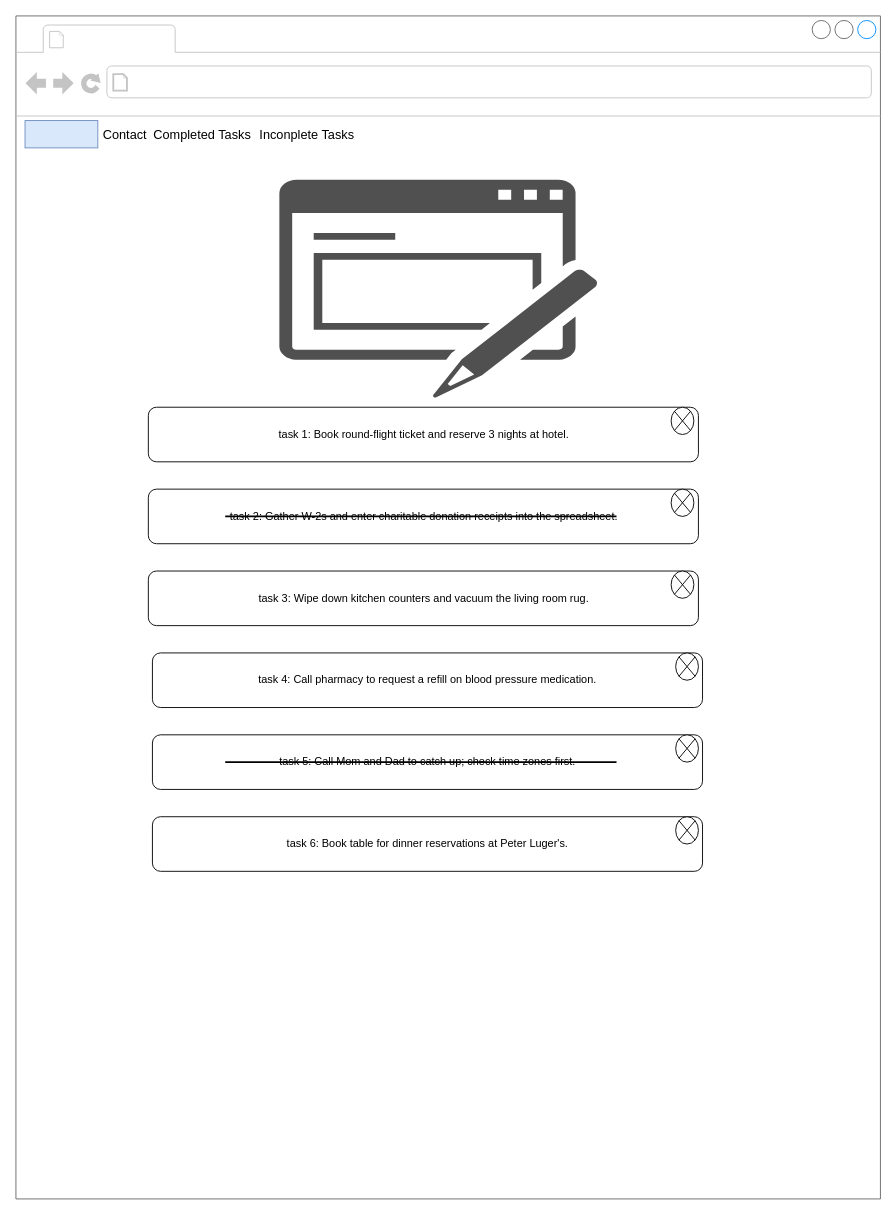
Image size: 896x1215. Some labels were removed from this diagram. The shapes that lost their labels are listed below. From the top down, each one's centre as x and y in pixels, then its label:
point 120,38: Page 1
point 247,82: https://www.jungleroomcafé.com
point 61,134: Home
